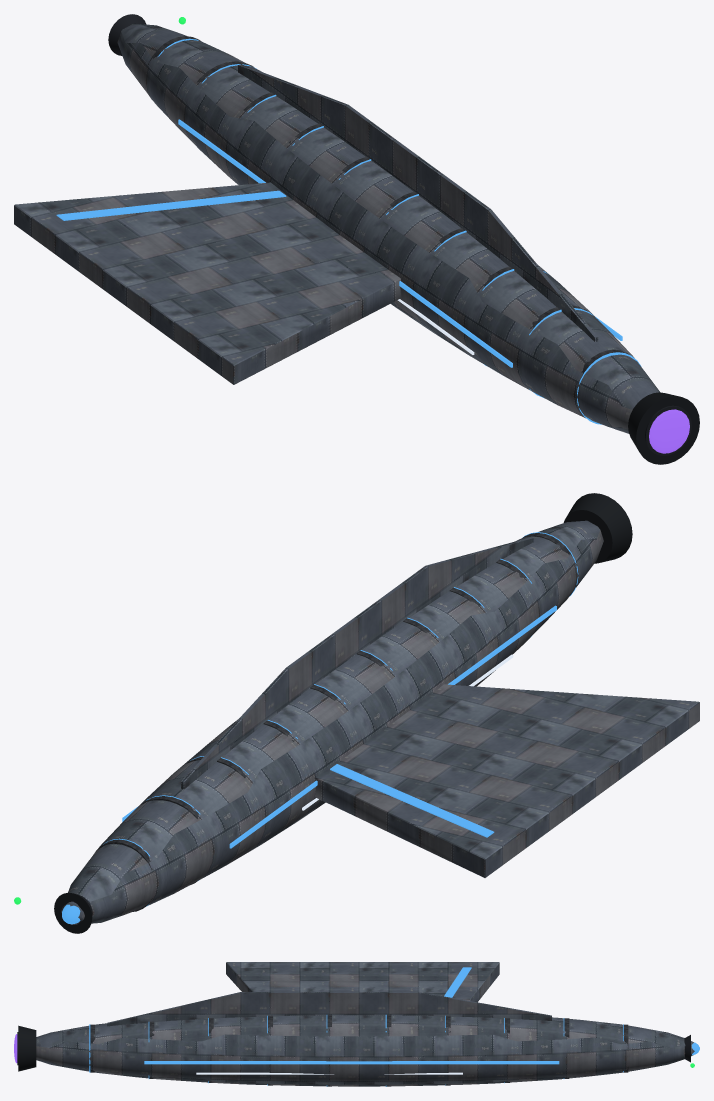
Rendered from arch_nacelle_starboard.glb.
3 views of the same model, one above another, from view 1: azimuth 30°, elevation 25°; view 2: azimuth 150°, elevation 25°; view 3: azimuth 270°, elevation 25° (orthographic). The views are drawn at different scales.
Parts seen in each view (by area): view 1: arch_nacelle_starboard; view 2: arch_nacelle_starboard; view 3: arch_nacelle_starboard.
Part boxes in pixels (box(x1,y1,x2,y2)): arch_nacelle_starboard: box(14, 14, 699, 464); arch_nacelle_starboard: box(14, 493, 699, 933); arch_nacelle_starboard: box(14, 962, 699, 1086).
Bounding box in the file's own units: 15.85 × 6.77 × 46.3.
8 materials, 2 textured.
